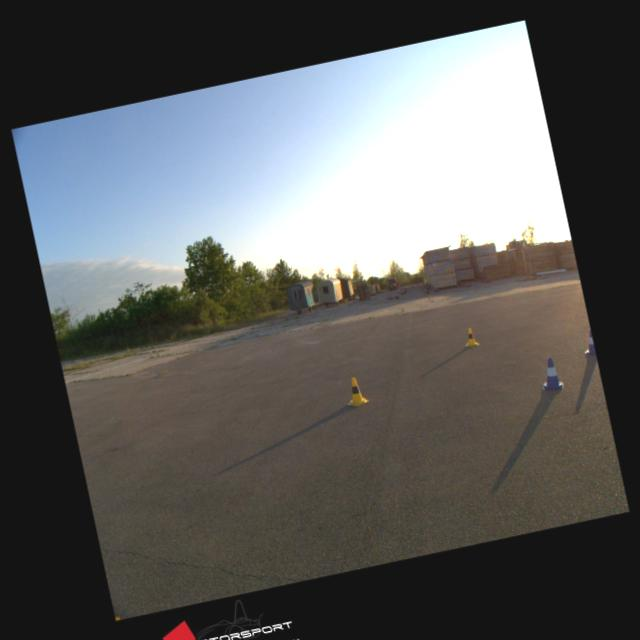blue_cone: (536, 355, 564, 392), (580, 329, 596, 356)
yellow_cone: (342, 374, 368, 408), (461, 326, 479, 346)
